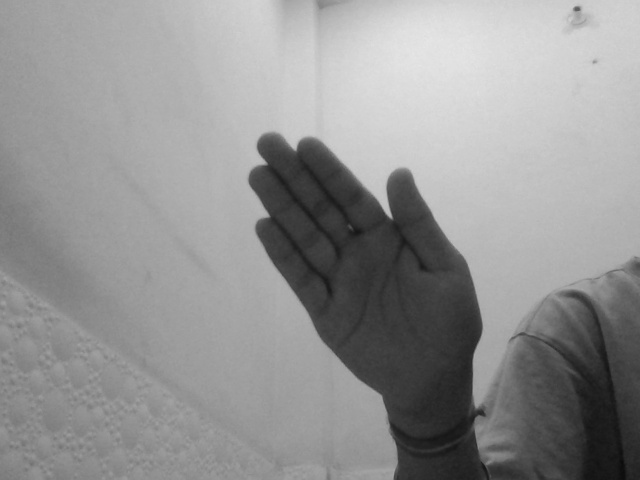Hello: (244, 128, 487, 411)
